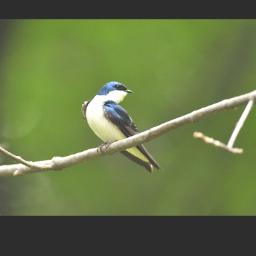Swallow: (80, 81, 162, 173)
